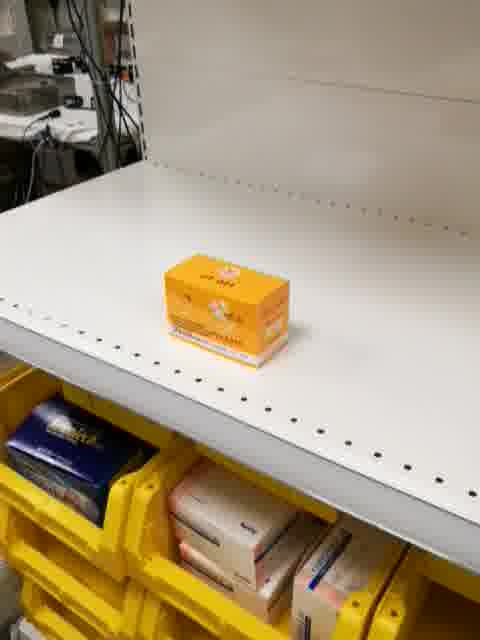jasminetea: (164, 251, 292, 370)
